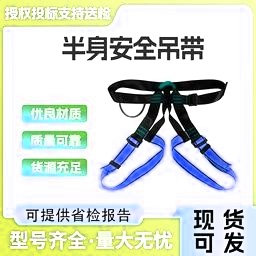safety belt: (98, 71, 240, 194)
